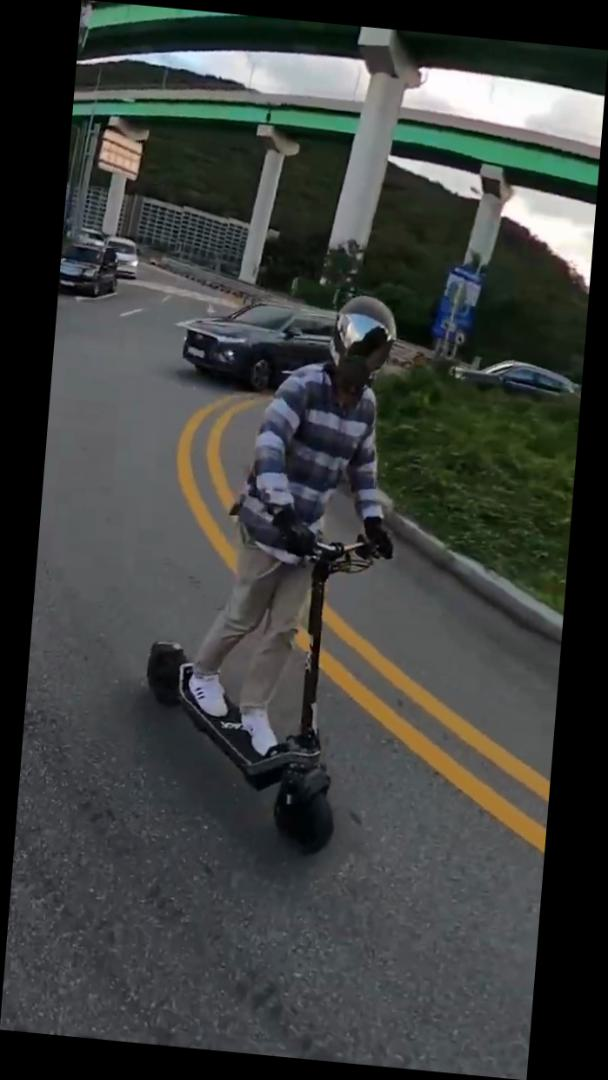helmet: (127, 269, 417, 862)
